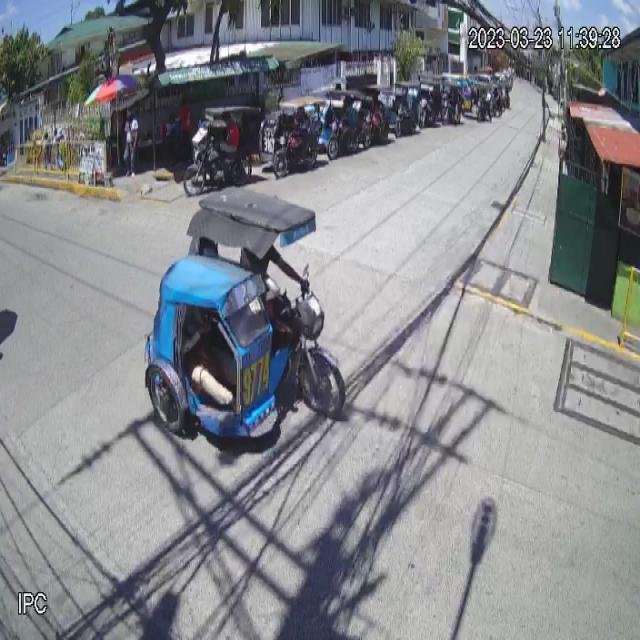Tricycle: (145, 187, 346, 443)
